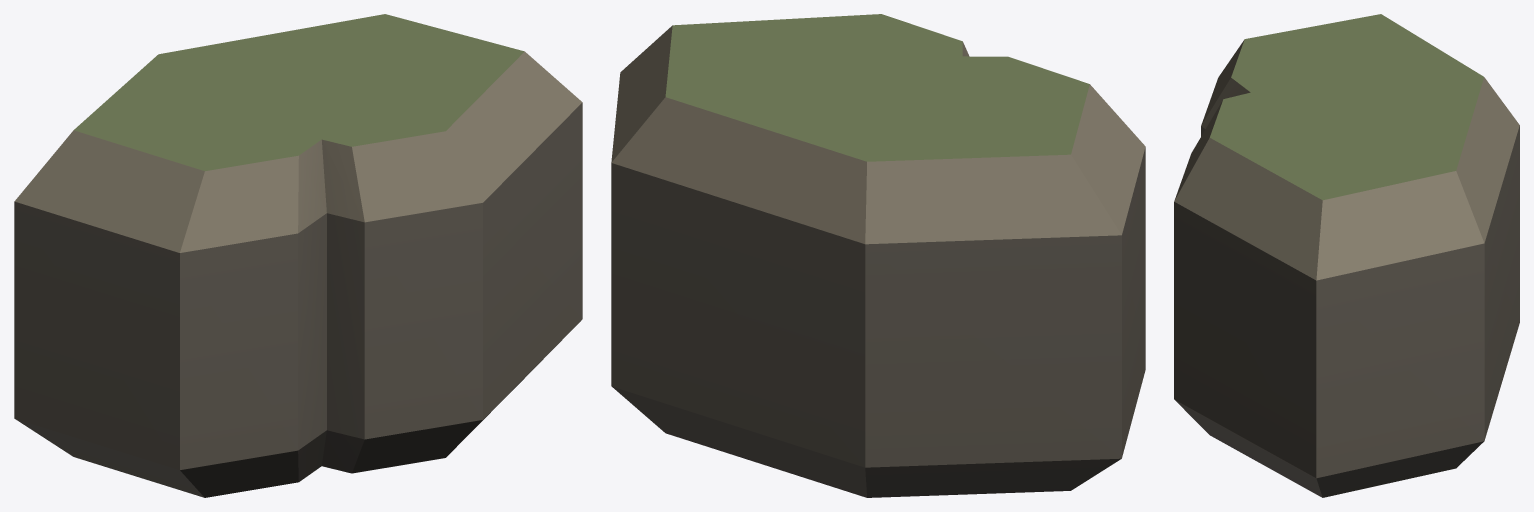
File: rock-small-1.glb
3 renders of one model, left to right at view 1: azimuth 30°, elevation 25°; view 2: azimuth 150°, elevation 25°; view 3: azimuth 270°, elevation 25°, orthographic. The views are drawn at different scales.
Visible parts, largest first — view 1: rock-small-1; view 2: rock-small-1; view 3: rock-small-1.
Boxes of the visible parts, x1,y1,x2,y2 form: rock-small-1: [14, 14, 582, 497]; rock-small-1: [611, 14, 1145, 497]; rock-small-1: [1174, 14, 1519, 497].
Bounding box in the file's own units: 0.8362 × 0.4946 × 0.5206.
